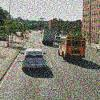cars: (22, 52, 50, 76)
